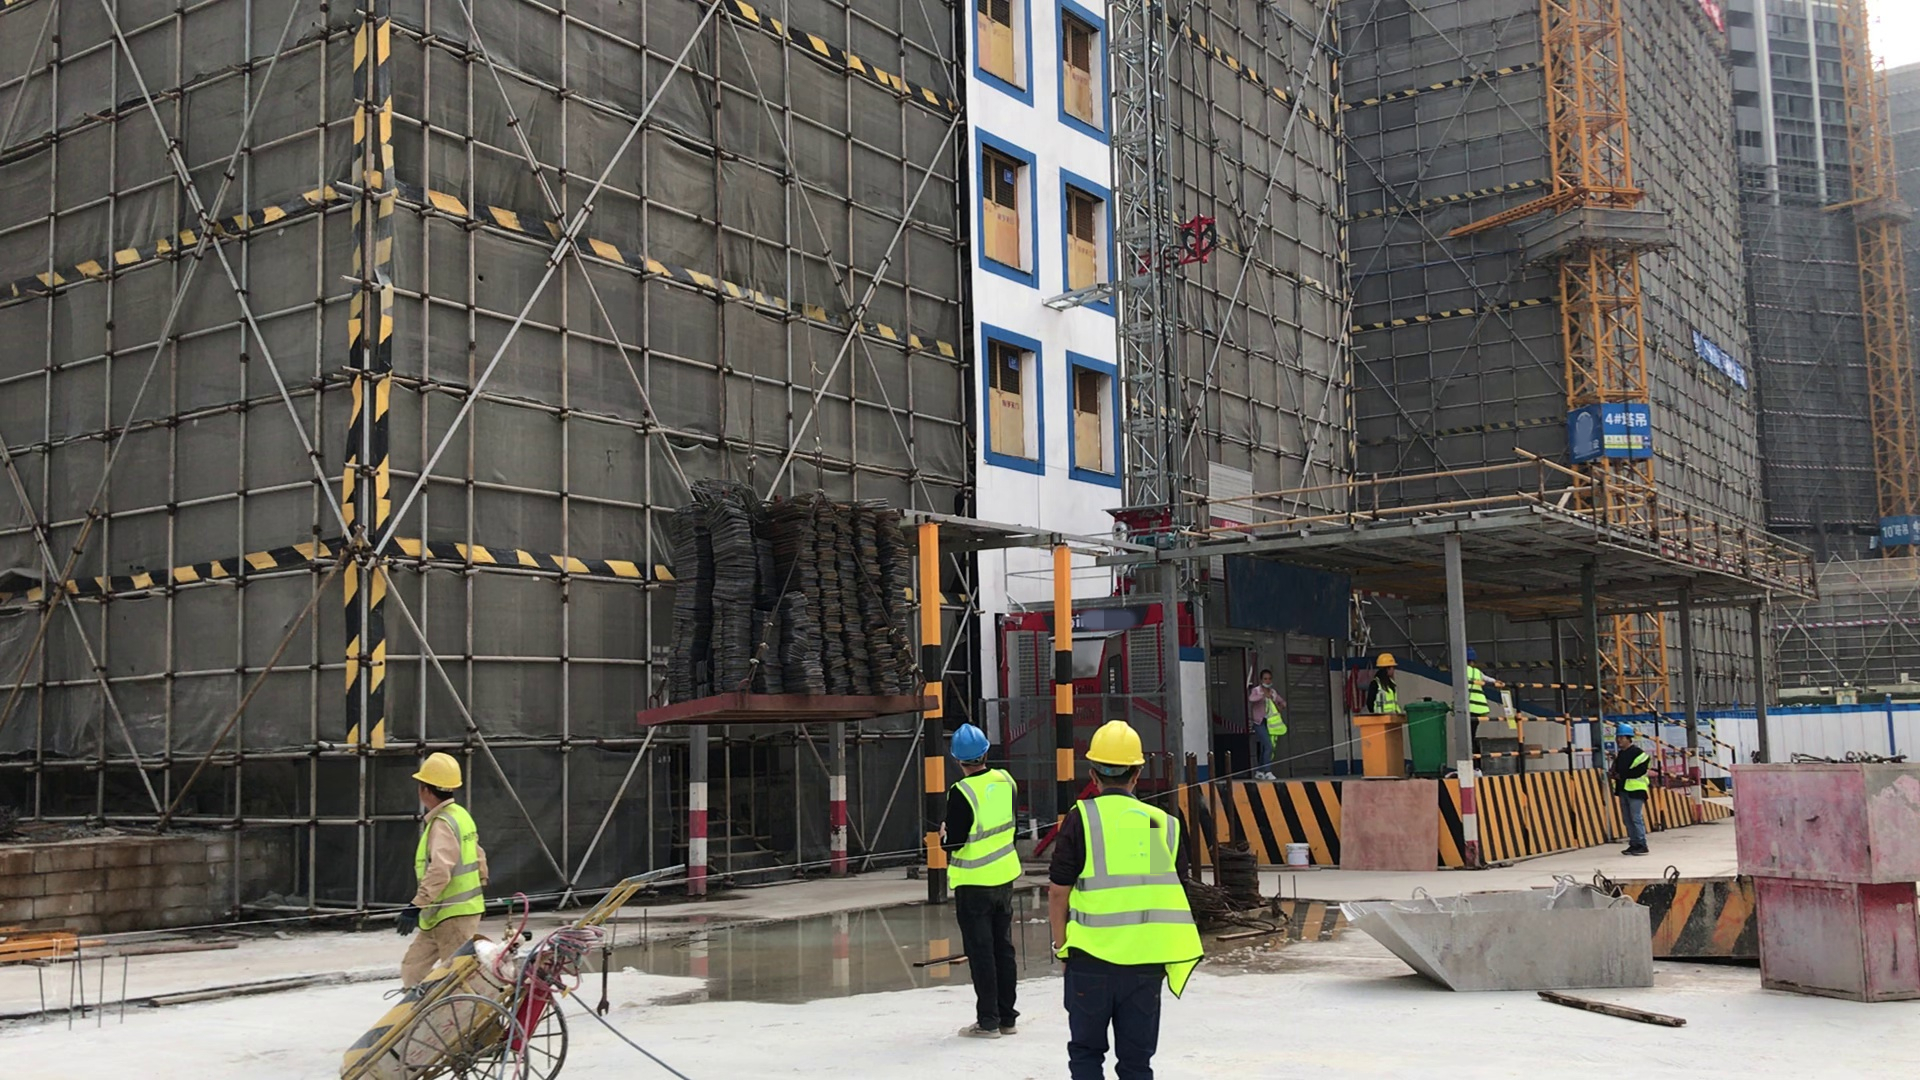fence: (1467, 672, 1740, 819)
handcart: (323, 847, 751, 1080)
helmet: (1081, 723, 1163, 780), (404, 747, 470, 797), (935, 715, 1000, 765), (1364, 648, 1402, 672), (1607, 719, 1647, 740), (1459, 648, 1483, 665)
hopper: (1330, 858, 1684, 1008)
person: (1035, 695, 1231, 1080), (355, 724, 523, 996), (909, 703, 1029, 1056), (1596, 701, 1692, 891), (1240, 658, 1297, 781), (1347, 641, 1419, 739), (1459, 646, 1517, 746)
slogan: (1664, 305, 1767, 422), (1533, 385, 1656, 477), (1827, 511, 1920, 566)
vest: (1063, 785, 1218, 1000), (402, 793, 495, 941), (937, 761, 1028, 907), (1610, 738, 1670, 805), (1245, 682, 1299, 753), (1466, 662, 1505, 737), (1371, 674, 1403, 716)
